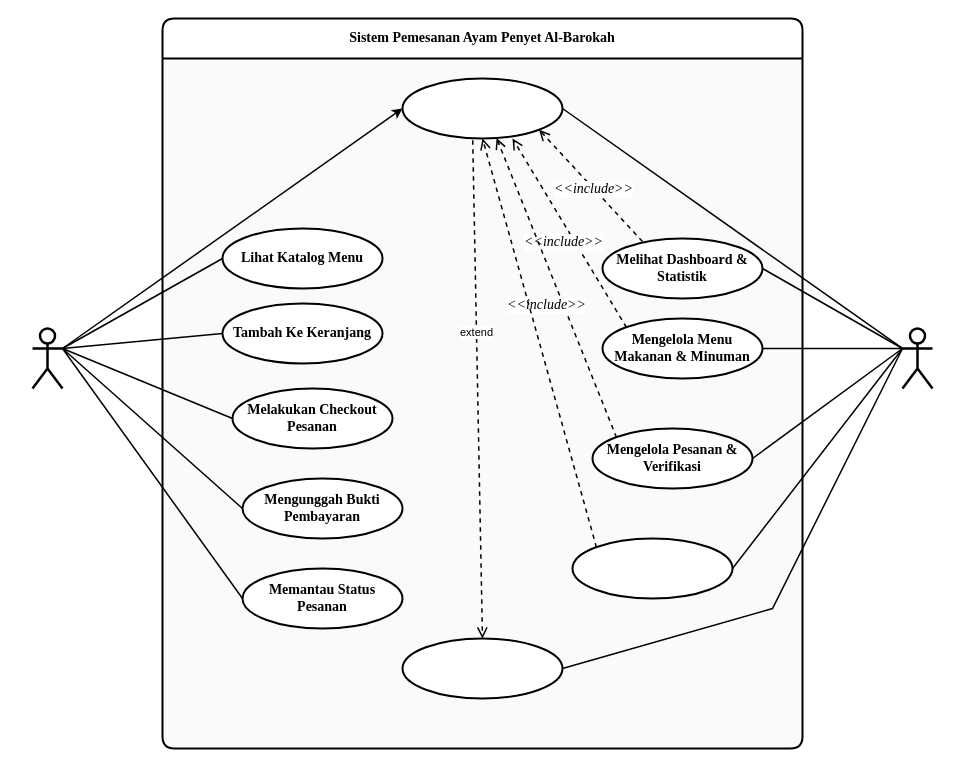
Image size: 955x766. Some labels were removed from this diagram. The shapes that lost their labels are listed below. From the top down, each one's centre as x and y in pixels, then its label:
At (482,108): "Login".
At (47,358): "Pelanggan".
At (917,358): "Admin".
At (652,568): "Melihat Laporan Penjualan".
At (482,668): "Logout Admin".
